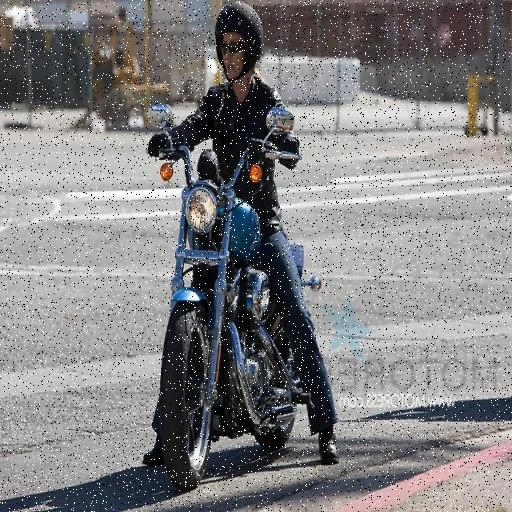Helmet: (210, 0, 266, 94)
Motor: (142, 188, 318, 480)
